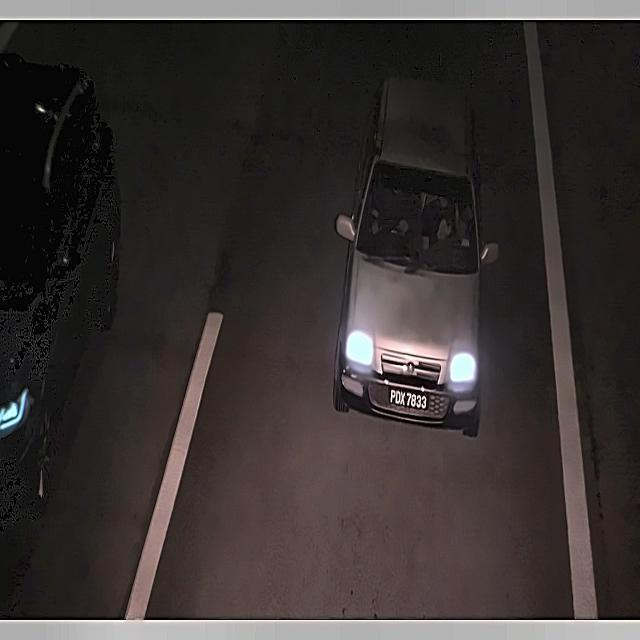car: (384, 376, 433, 422)
